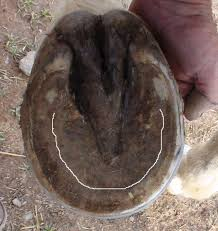horsesole: (19, 42, 183, 220)
